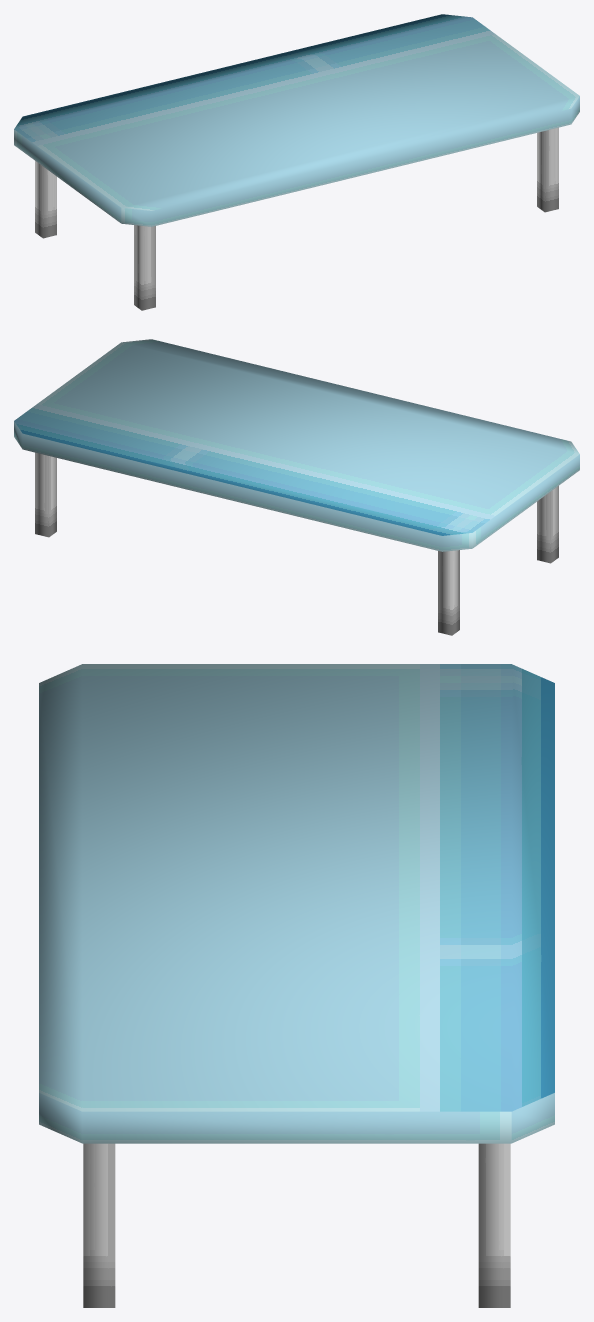
3 renders of one model, top to bottom at view 1: azimuth 30°, elevation 25°; view 2: azimuth 150°, elevation 25°; view 3: azimuth 270°, elevation 25°, orthographic. The views are drawn at different scales.
Visible parts, largest first — view 1: 3236IMSD01_22; view 2: 3236IMSD01_22; view 3: 3236IMSD01_22.
Boxes of the visible parts, x1=… form: 3236IMSD01_22: x1=14, y1=14, x2=579, y2=310; 3236IMSD01_22: x1=14, y1=339, x2=579, y2=635; 3236IMSD01_22: x1=39, y1=664, x2=554, y2=1307.
Bounding box in the file's own units: 1.95 × 0.4399 × 0.9502.
2 materials, 2 textured.
